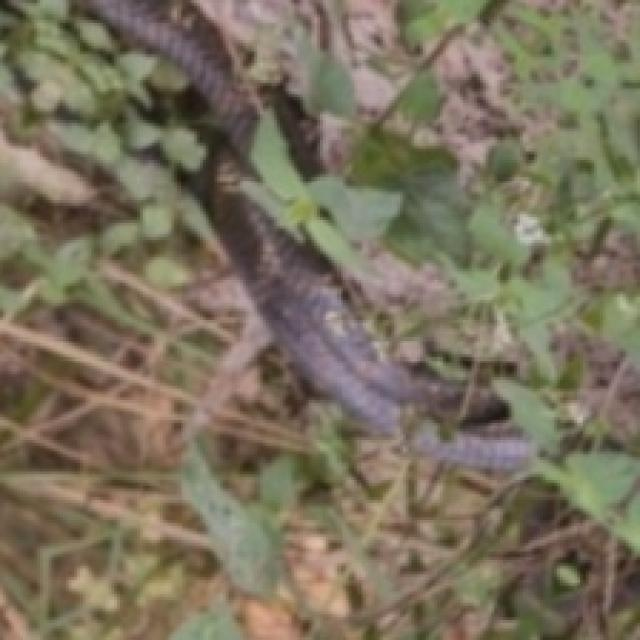king cobra: (83, 0, 531, 469), (83, 0, 460, 431)
